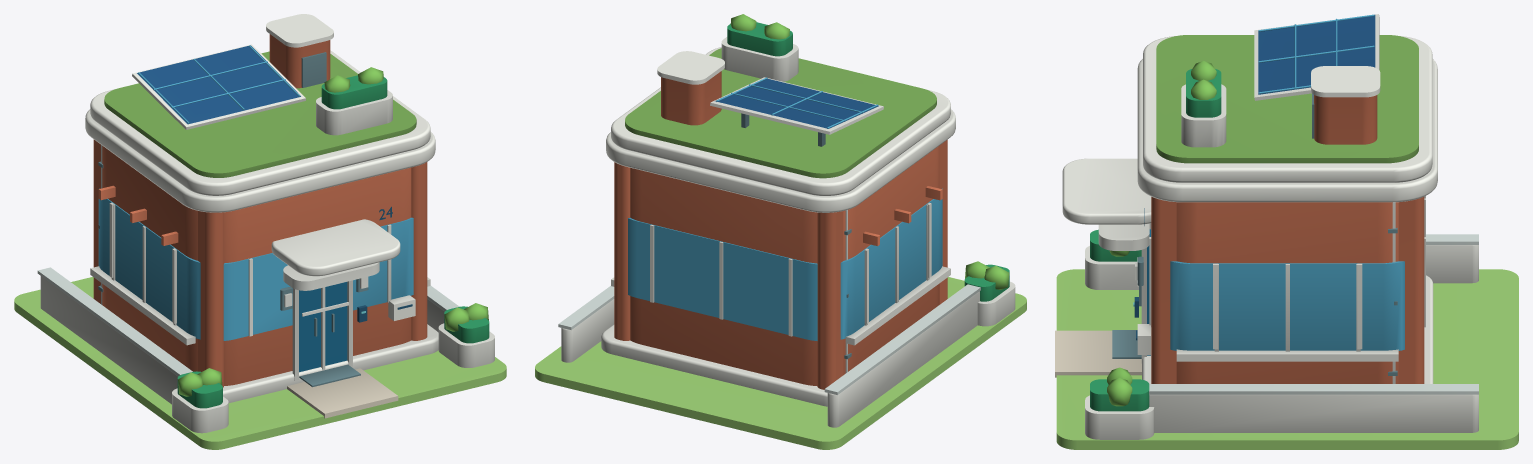
The model's file is house-coral.glb.
3 views of the same model, side by side, from view 1: azimuth 30°, elevation 25°; view 2: azimuth 150°, elevation 25°; view 3: azimuth 270°, elevation 25° (orthographic). The views are drawn at different scales.
Parts seen in each view (by area): view 1: house footing, house shell, continuous blue glazing, green roof, residential garden, photovoltaic cells, recessed entrance, planter foliage, front walk, garden wall cap, shrub tip, roof access hatch; view 2: house shell, house footing, continuous blue glazing, residential garden, green roof, photovoltaic cells, garden wall cap, planter foliage, shrub tip; view 3: house footing, house shell, residential garden, continuous blue glazing, green roof, photovoltaic cells, garden wall cap, planter foliage, front walk, shrub tip, roof access hatch.
Boxes of the visible parts, left/top/right/bottom form: house footing: left=40, top=14, right=494, bottom=433; house shell: left=93, top=34, right=427, bottom=387; continuous blue glazing: left=98, top=45, right=413, bottom=340; green roof: left=104, top=51, right=416, bottom=177; residential garden: left=14, top=277, right=506, bottom=449; photovoltaic cells: left=137, top=45, right=300, bottom=124; recessed entrance: left=299, top=282, right=347, bottom=372; planter foliage: left=177, top=75, right=489, bottom=408; front walk: left=287, top=368, right=398, bottom=418; garden wall cap: left=37, top=267, right=459, bottom=376; shrub tip: left=178, top=67, right=488, bottom=396; roof access hatch: left=98, top=52, right=368, bottom=387; house shell: left=614, top=71, right=947, bottom=389; house footing: left=561, top=37, right=1015, bottom=427; continuous blue glazing: left=628, top=77, right=942, bottom=340; residential garden: left=535, top=277, right=1026, bottom=449; green roof: left=625, top=48, right=936, bottom=178; photovoltaic cells: left=715, top=79, right=878, bottom=128; garden wall cap: left=558, top=284, right=980, bottom=394; planter foliage: left=727, top=22, right=1009, bottom=301; shrub tip: left=730, top=14, right=1009, bottom=289; house footing: left=1062, top=14, right=1478, bottom=439; house shell: left=1151, top=95, right=1424, bottom=383; residential garden: left=1056, top=269, right=1518, bottom=449; continuous blue glazing: left=1170, top=14, right=1404, bottom=350; green roof: left=1156, top=35, right=1418, bottom=163; photovoltaic cells: left=1258, top=14, right=1375, bottom=94; garden wall cap: left=1149, top=234, right=1478, bottom=394; planter foliage: left=1090, top=69, right=1221, bottom=411; front walk: left=1055, top=330, right=1141, bottom=377; shrub tip: left=1107, top=61, right=1216, bottom=406; roof access hatch: left=1112, top=93, right=1397, bottom=375.
Size of the model in its own units: 2.73 by 2.4 by 3.09.
